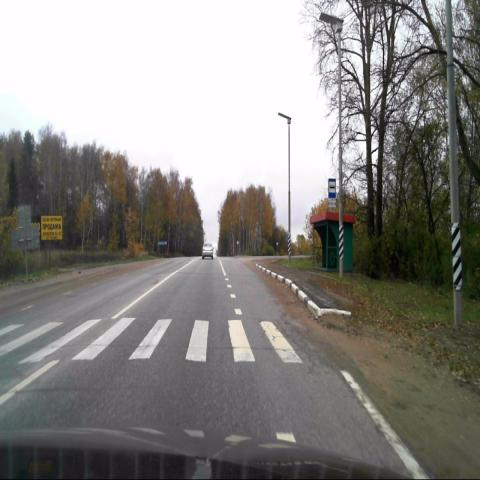5_16: (328, 179, 336, 197)
